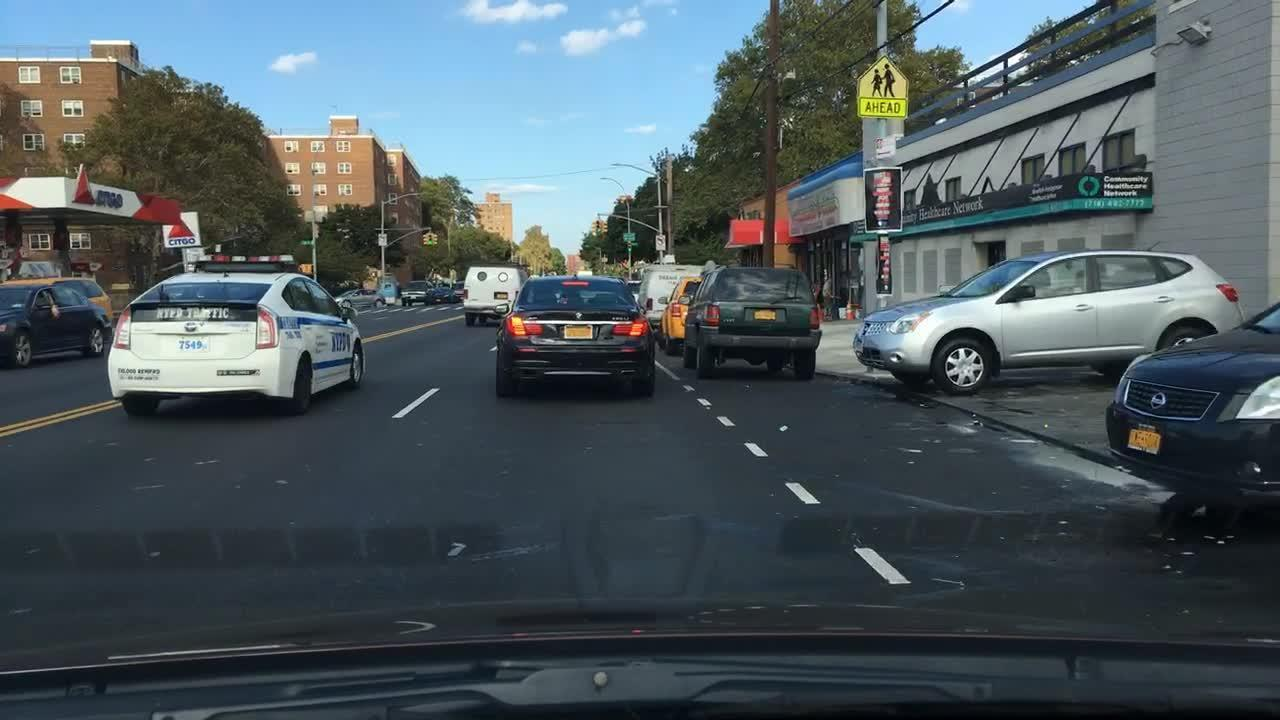Nissan: (1147, 386, 1170, 416)
Toyota: (182, 318, 201, 337)
bmw: (572, 310, 585, 321)
